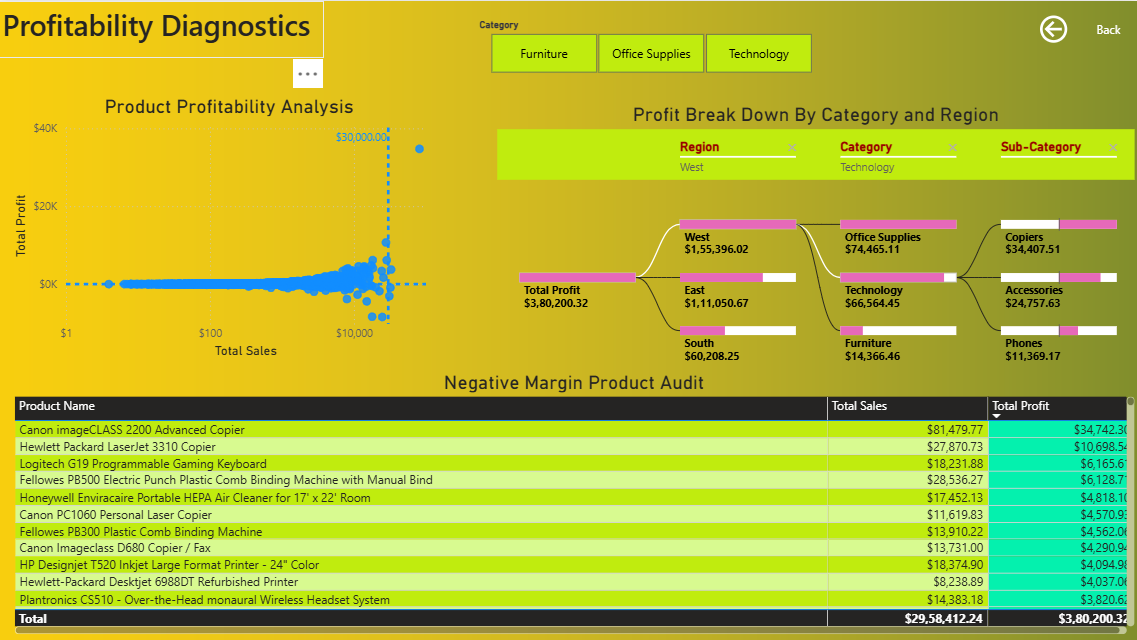

The page's visual inventory and layout, read from the dashboard file:
{"tool":"powerbi","page":{"name":"Profitability Diagnostics","canvas":[1280,720],"ordinal":1},"visuals":[{"type":"slicer","fields":{"Values":["Dim_Product.Category"]},"box":[527.3,15.4,409.5,71.5],"z":0},{"type":"scatterChart","title":"Product Profitability Analysis","fields":{"X":["_Measures.Total Sales"],"Y":["_Measures.Total Profit"],"Category":["Dim_Product.Product Name"]},"box":[12.6,105.2,493.6,300.1],"z":1000},{"type":"decompositionTreeVisual","title":"Profit Break Down By Category and Region ","fields":{"Analyze":["_Measures.Total Profit"],"ExplainBy":["Dim_Geography.Region","Dim_Product.Category","Dim_Product.Sub-Category"]},"box":[555.3,115,725,300.1],"z":2000},{"type":"tableEx","title":"Negative Margin Product Audit","fields":{"Values":["Dim_Product.Product Name","_Measures.Total Sales","_Measures.Total Profit"]},"box":[12.6,415.1,1267.7,300.1],"z":3000},{"type":"textbox","box":[0,0,366,64.5],"z":4000},{"type":"actionButton","box":[1163.9,11.2,99.6,40.7],"z":5000}]}

Visuals, with their boxes in screenshot pixels (x1, y1, x2, y2), scaled from the page's 1280x720 canvas onto the 1137x640 screenshot:
slicer - Dim_Product.Category: region(468, 14, 832, 77)
"Product Profitability Analysis" scatterChart: region(11, 94, 450, 360)
"Profit Break Down By Category and Region " decompositionTreeVisual: region(493, 102, 1136, 369)
"Negative Margin Product Audit" tableEx: region(11, 369, 1136, 636)
textbox: region(0, 0, 325, 57)
actionButton: region(1034, 10, 1122, 46)
